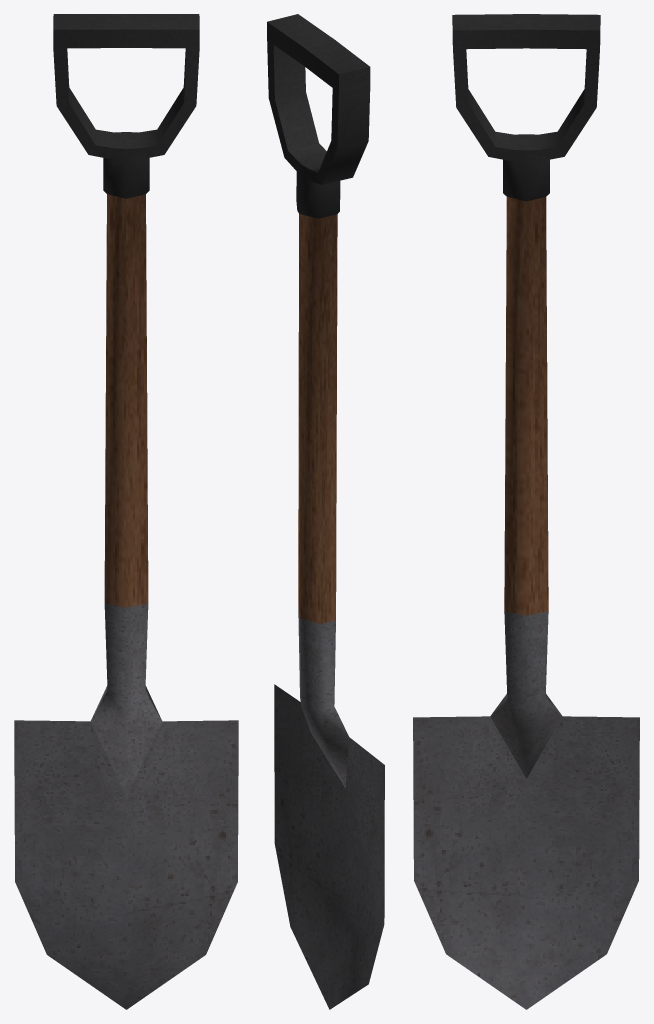
File: shovel.glb
3 views of the same model, side by side, from view 1: azimuth 90°, elevation 25°; view 2: azimuth 210°, elevation 25°; view 3: azimuth 270°, elevation 25° (orthographic). The views are drawn at different scales.
Visible parts, largest first — view 1: Shovel; view 2: Shovel; view 3: Shovel.
Boxes of the visible parts, box(x1,y1,x2,y2) form: Shovel: box(14, 14, 238, 1009); Shovel: box(267, 14, 384, 1009); Shovel: box(413, 14, 639, 1009).
Size of the model in its own units: 0.0631 by 1.17 by 0.2413.
Materials: 1 (1 with a texture image).
